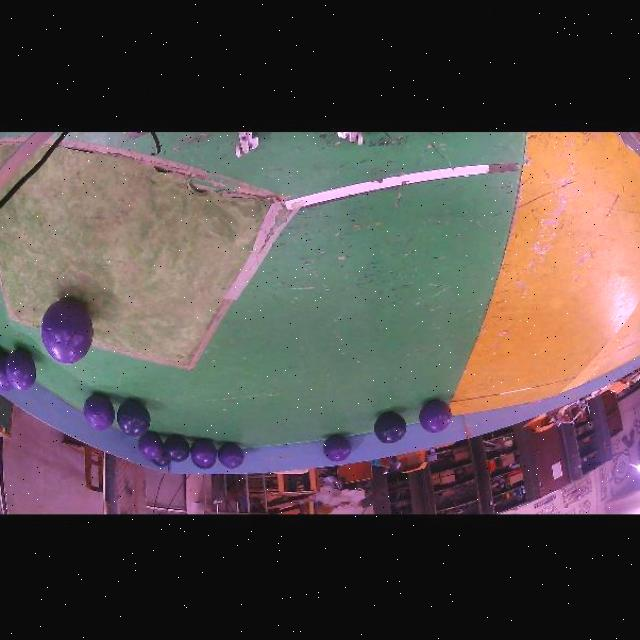B: (117, 400, 150, 436), (374, 412, 406, 444), (163, 435, 190, 462), (151, 453, 171, 468)
P: (41, 298, 94, 364), (0, 348, 36, 391), (5, 348, 36, 391), (83, 393, 115, 431), (420, 399, 452, 432), (323, 435, 352, 461), (191, 439, 218, 466), (218, 443, 244, 468), (138, 432, 163, 458)
